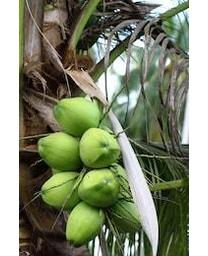coconut: (50, 94, 100, 134), (76, 167, 124, 208), (38, 169, 86, 209), (35, 132, 81, 173), (65, 201, 105, 247), (79, 127, 122, 169)
